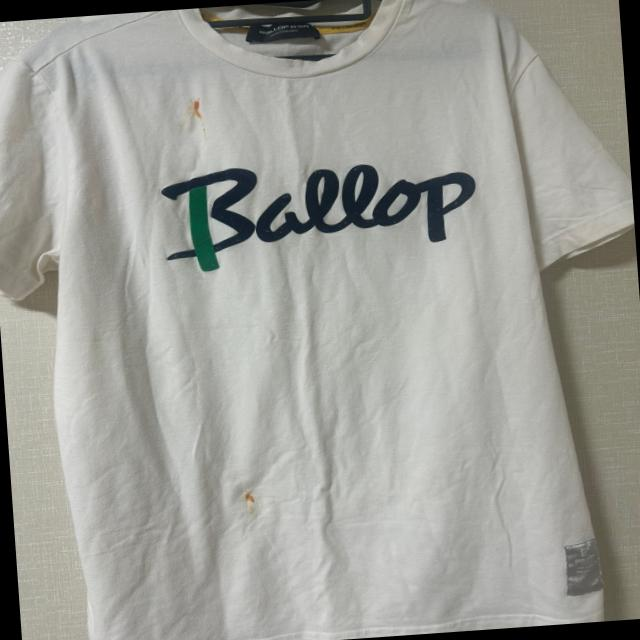stain: (238, 488, 262, 505), (190, 100, 204, 119), (178, 123, 186, 133), (202, 126, 208, 139)
